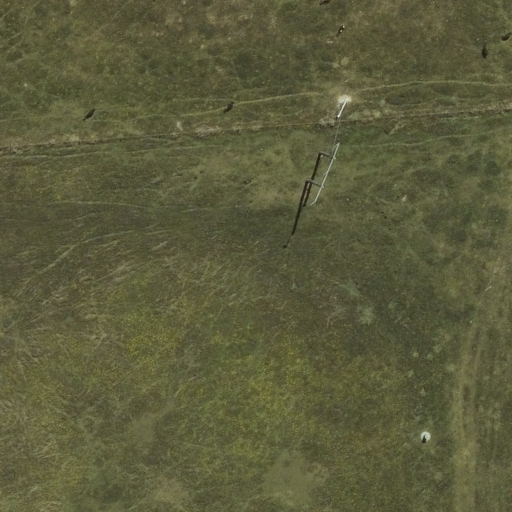DT: (291, 132, 348, 232)
